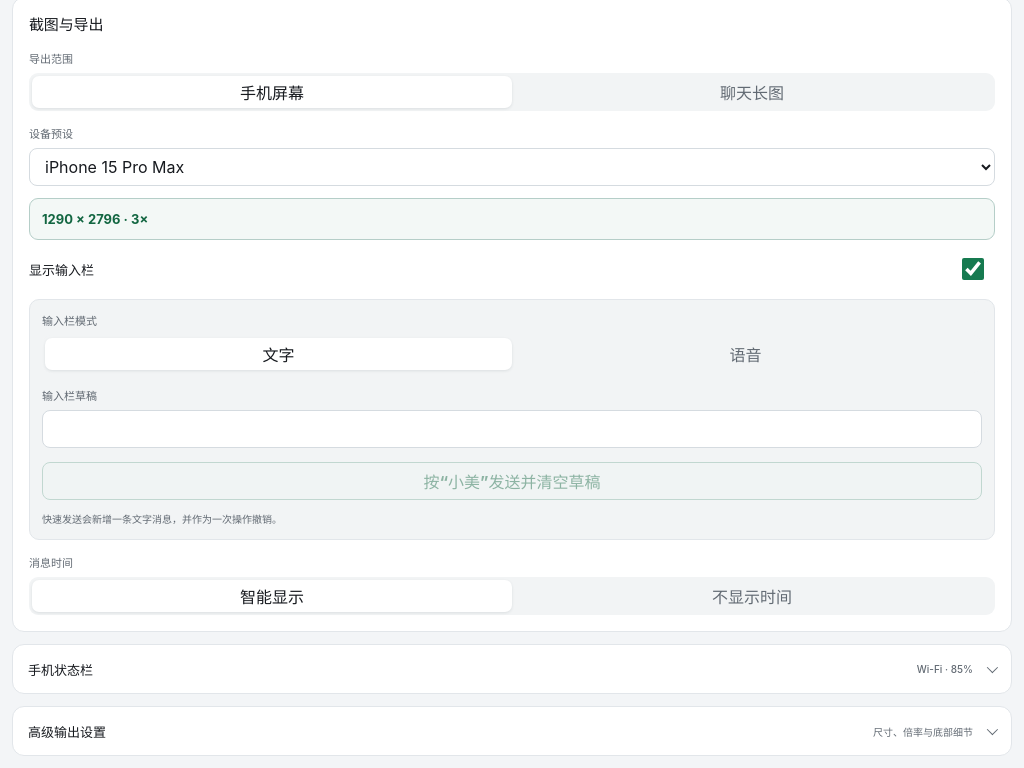
Test case: SettingsPanel › presents the calibrated iPhone preset and keeps low-frequency controls collapsed
The width and height of the screenshot is (1024, 768).
(page scrolled)
Check: the heading "截图与导出" is shown, box [29, 15, 103, 34]
Check: the dropdown labelled "设备预设" shows "iPhone 15 Pro Max", box [29, 148, 995, 186]
Click the text "高级输出设置".
click(67, 732)  # box [28, 724, 106, 740]
(page scrolled)
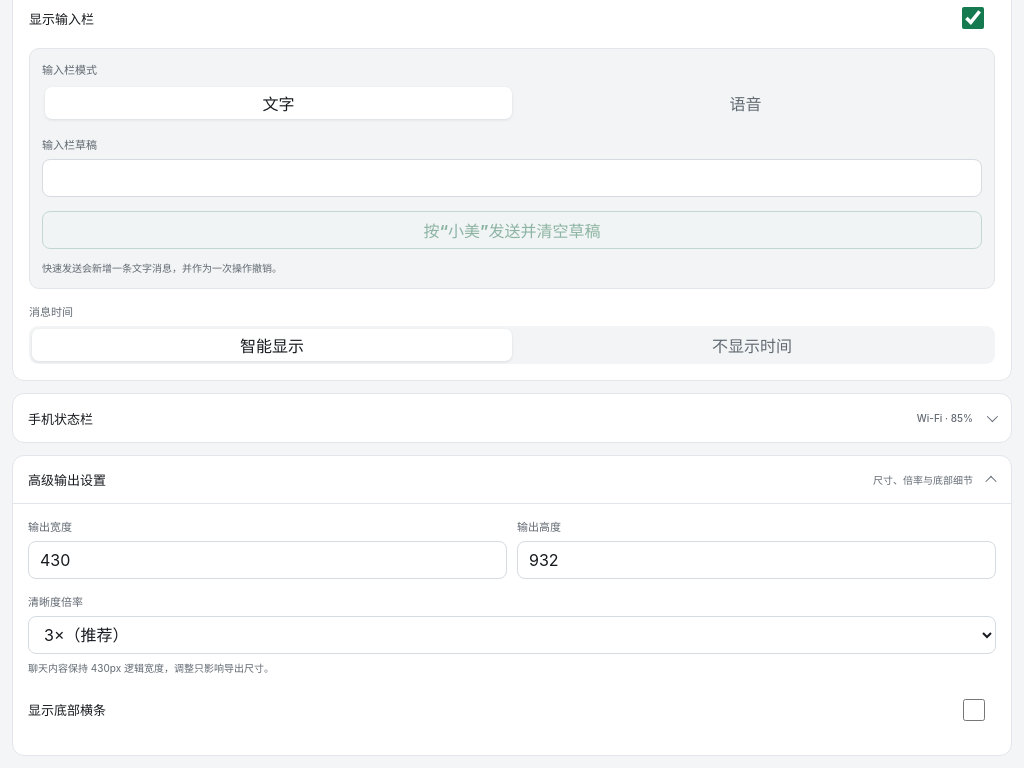
Check: the number field labelled "输出宽度" holds "430", box [28, 541, 507, 579]
Check: the number field labelled "输出高度" holds "932", box [517, 541, 996, 579]
